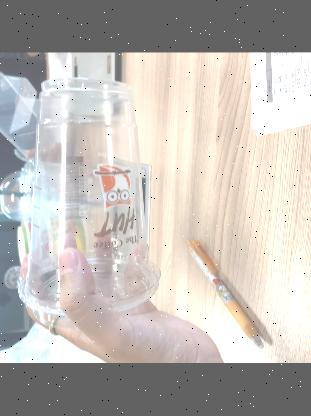Others: (14, 77, 162, 328)
